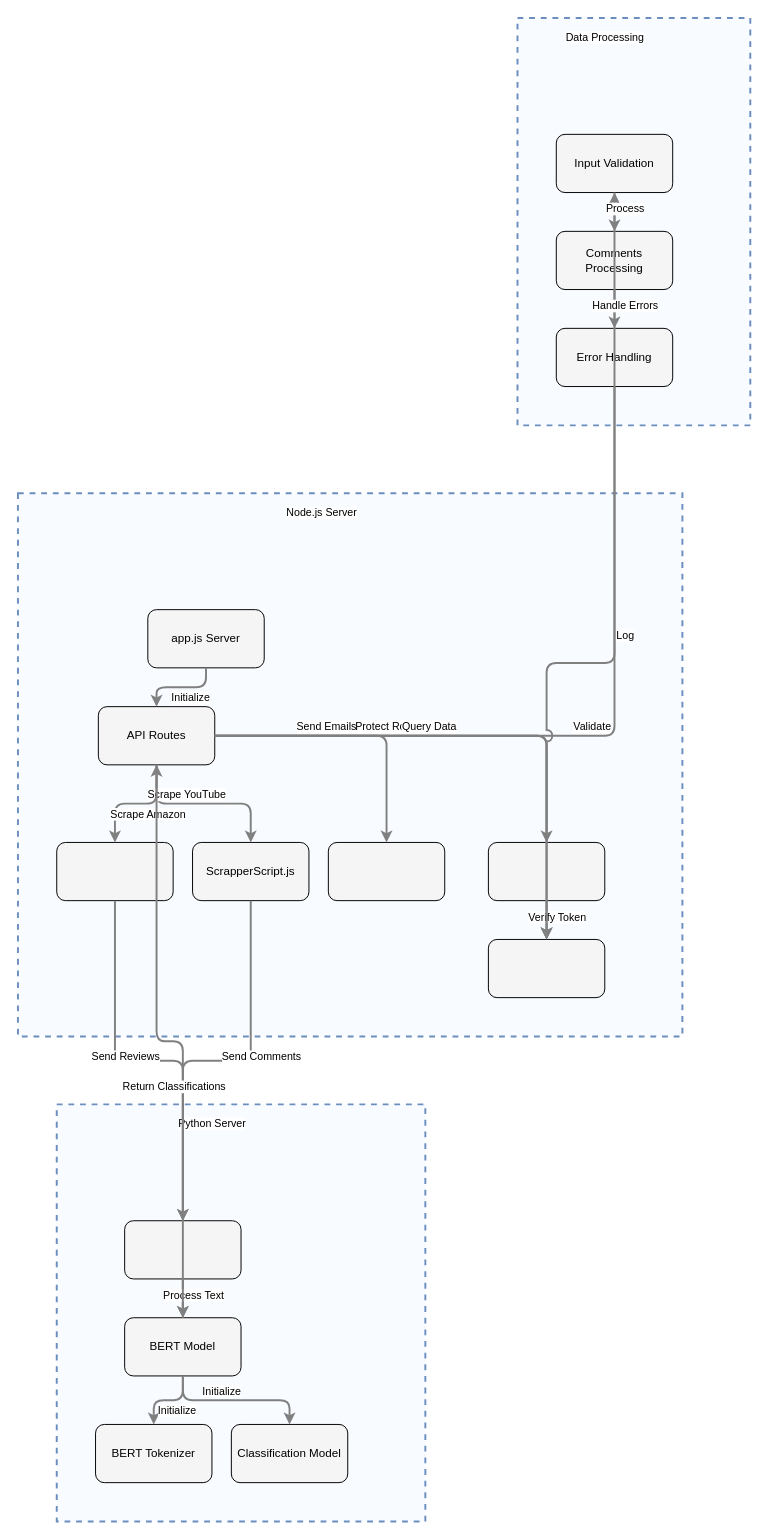
This 767x1538 diagram has some shape labels left out. Here are the shapes that lost their labels. From the top down, the box of each, then its label:
(56, 841, 173, 901): amazonScrapping.js
(327, 841, 445, 901): Email Service
(487, 841, 605, 901): Authentication Middleware
(487, 938, 605, 998): MySQL Database
(124, 1220, 241, 1279): FastAPI Server
